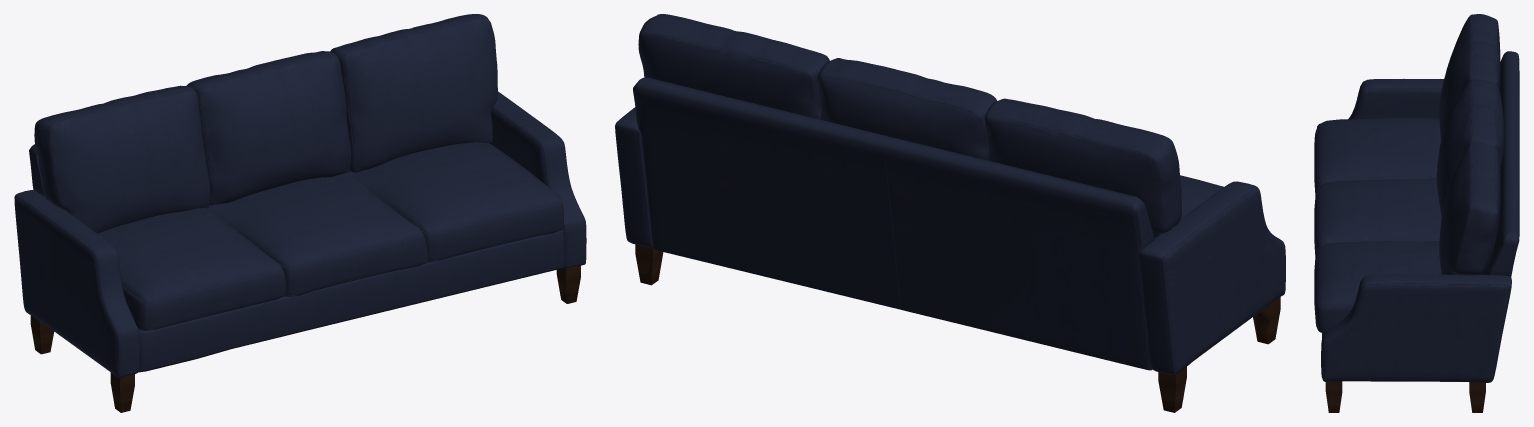
Rendered from B07DBG898G.glb.
3 renders of one model, left to right at view 1: azimuth 30°, elevation 25°; view 2: azimuth 150°, elevation 25°; view 3: azimuth 270°, elevation 25°, orthographic. The views are drawn at different scales.
Parts seen in each view (by area): view 1: RootNode; view 2: RootNode; view 3: RootNode.
Part boxes in pixels (<box>): RootNode: <box>14,14,586,412</box>; RootNode: <box>615,14,1285,412</box>; RootNode: <box>1314,14,1519,412</box>.
Size of the model in its own units: 2.11 by 0.9837 by 0.8879.
Materials: 1 (1 with a texture image).
